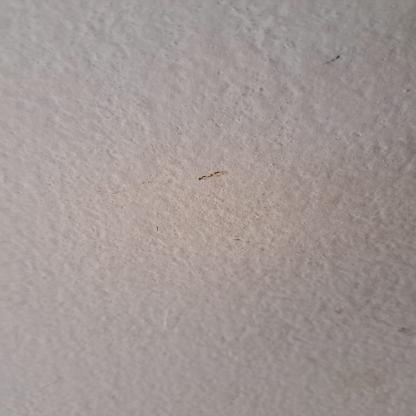spot: (100, 180, 178, 195), (193, 164, 231, 181)
